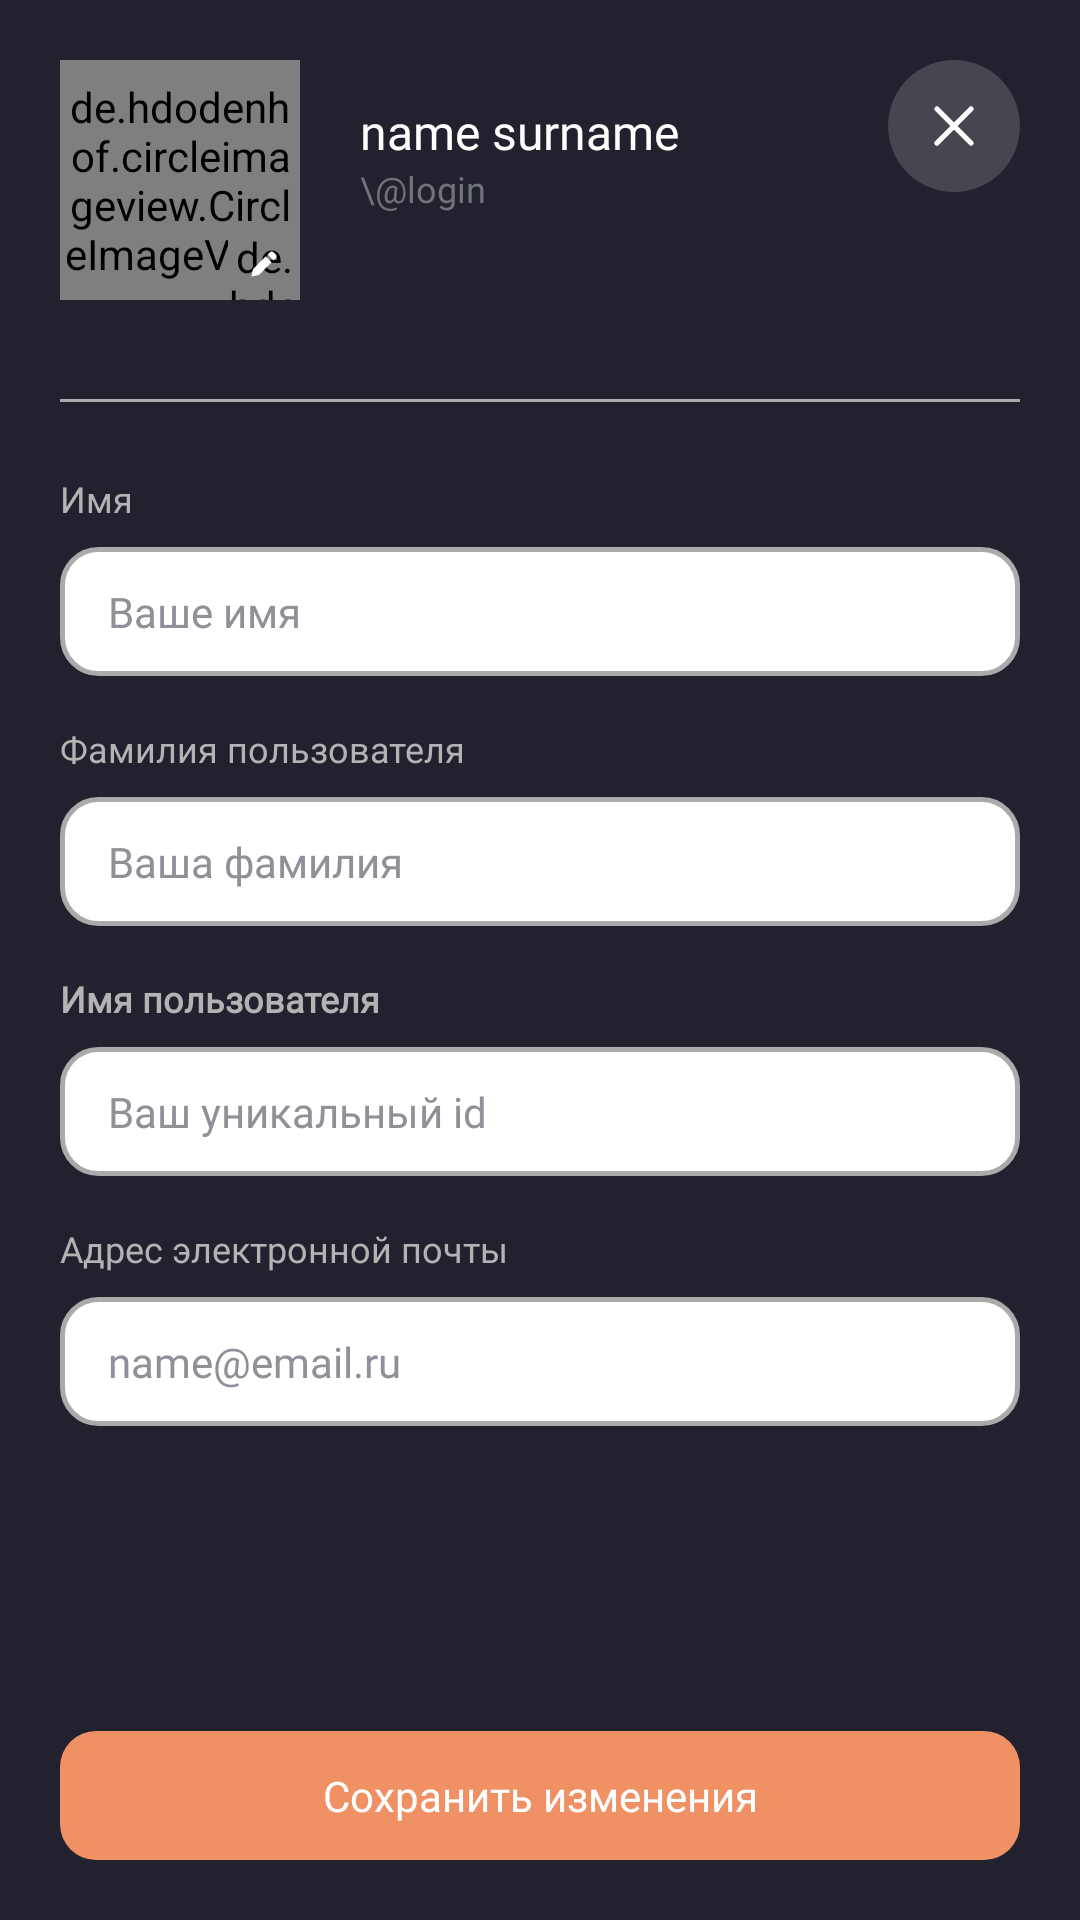

Icons on this 1080w x 1920h Android screen, each with the point to tap as (x,y):
cancellation: (954,126)
